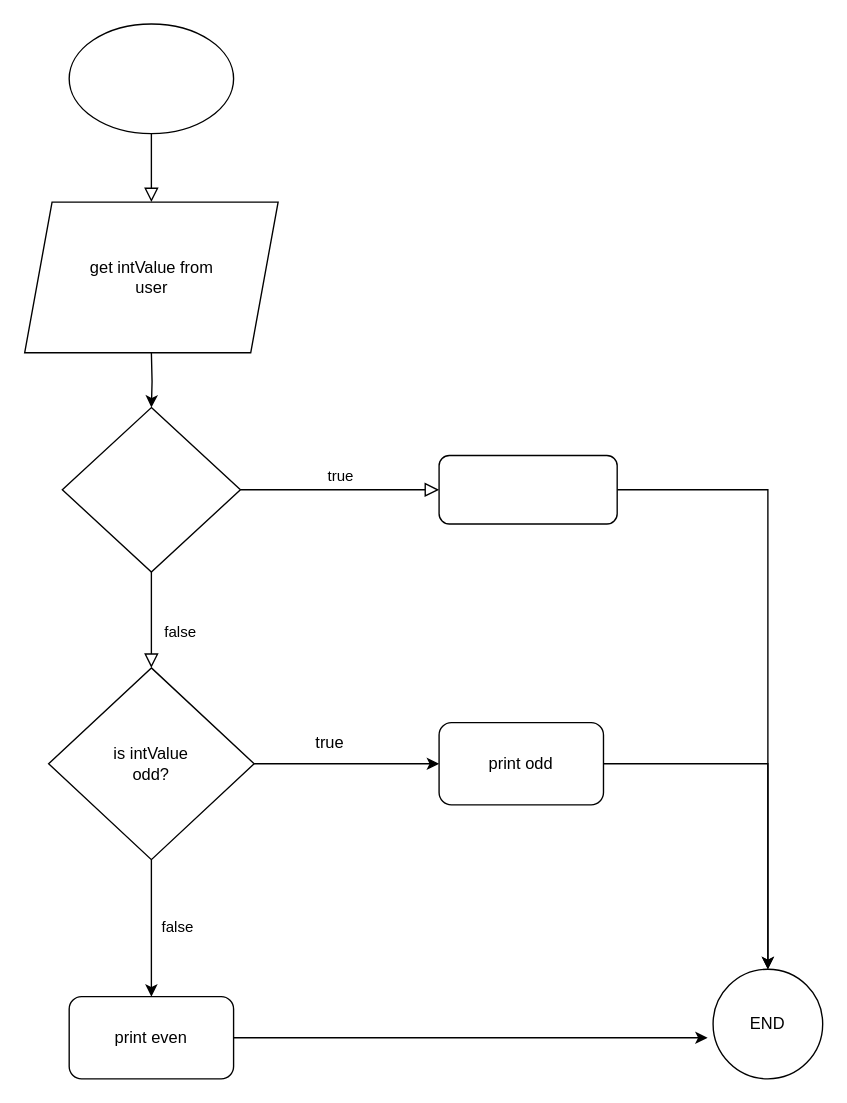
The diagram is 847 pixels wide and 1103 high, and some of its shapes have lost their labels. Here are the shapes that lost their labels. From the top down, the centre of each, then its label:
At point (151, 78): "Start".
At point (150, 489): "Is intValue non-numeric?".
At point (527, 489): "print N/A".
